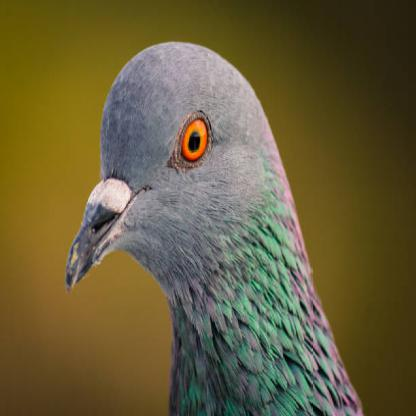Rock Pigeon: (64, 37, 367, 409)
